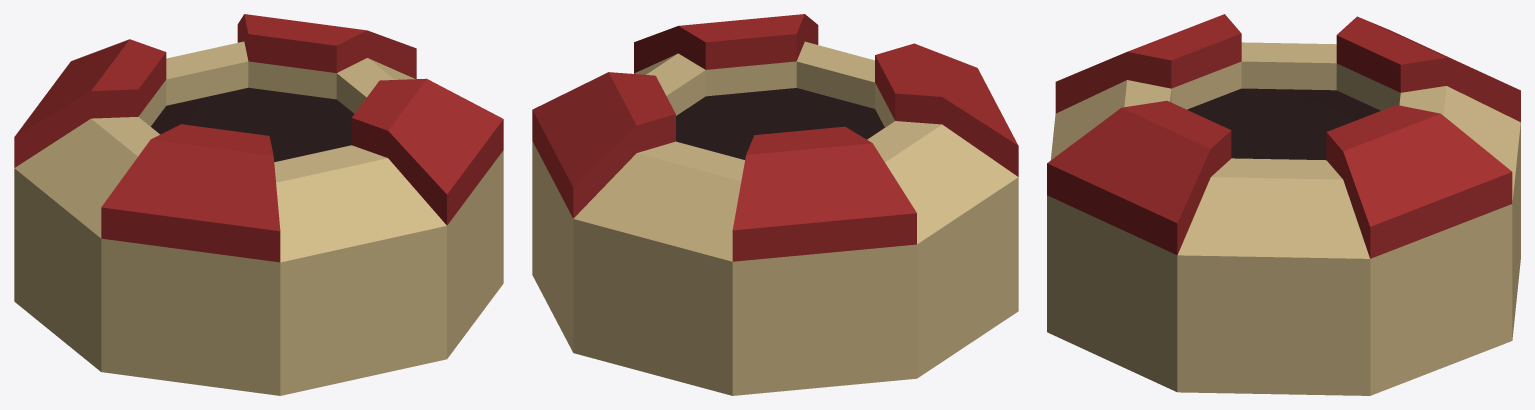
The model's file is Ball_Spawn_Red.fbx.
3 views of the same model, side by side, from view 1: azimuth 30°, elevation 25°; view 2: azimuth 150°, elevation 25°; view 3: azimuth 270°, elevation 25° (orthographic). The views are drawn at different scales.
Parts seen in each view (by area): view 1: Ball_Spawn_Red; view 2: Ball_Spawn_Red; view 3: Ball_Spawn_Red.
Part boxes in pixels (bbox=[...]): Ball_Spawn_Red: bbox=[14, 14, 503, 395]; Ball_Spawn_Red: bbox=[532, 14, 1018, 395]; Ball_Spawn_Red: bbox=[1047, 14, 1520, 395].
Size of the model in its own units: 185 by 91.99 by 185.
